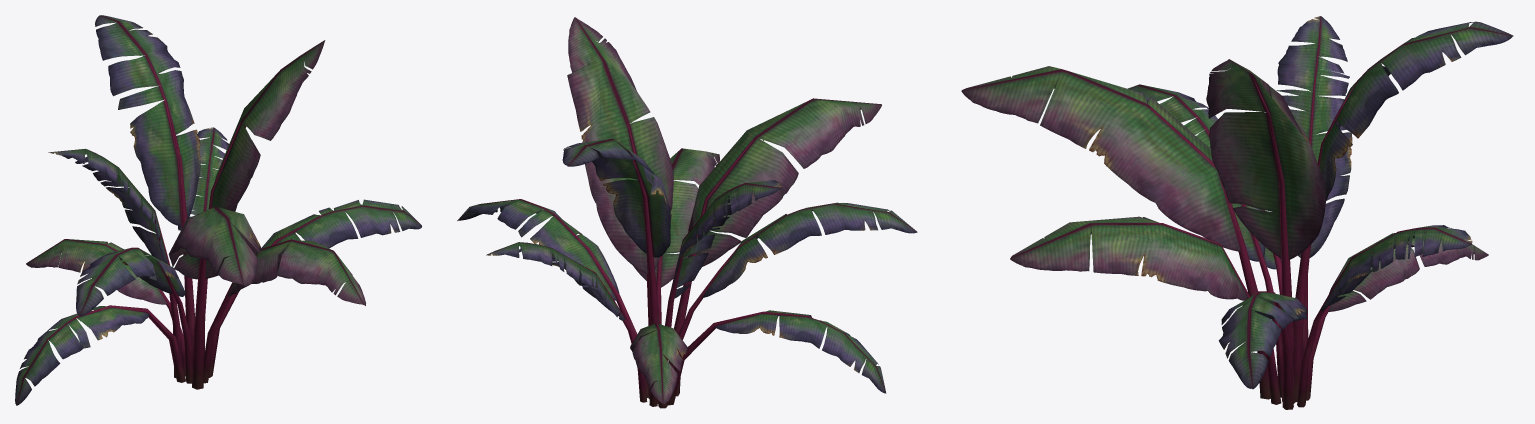
Rendered from Big_Leaf_Exotic_Plant.FBX.
The picture shows the model from 3 angles, left to right: view 1: azimuth 30°, elevation 25°; view 2: azimuth 150°, elevation 25°; view 3: azimuth 270°, elevation 25°; orthographic projection. The views are drawn at different scales.
Parts seen in each view (by area): view 1: Big_Leaf_Exotic_Plant001; view 2: Big_Leaf_Exotic_Plant001; view 3: Big_Leaf_Exotic_Plant001.
Boxes of the visible parts, left/top/right/bottom form: Big_Leaf_Exotic_Plant001: left=15, top=15, right=421, bottom=405; Big_Leaf_Exotic_Plant001: left=457, top=17, right=917, bottom=408; Big_Leaf_Exotic_Plant001: left=961, top=16, right=1513, bottom=409.
Bounding box in the file's own units: 567 × 432 × 549.
